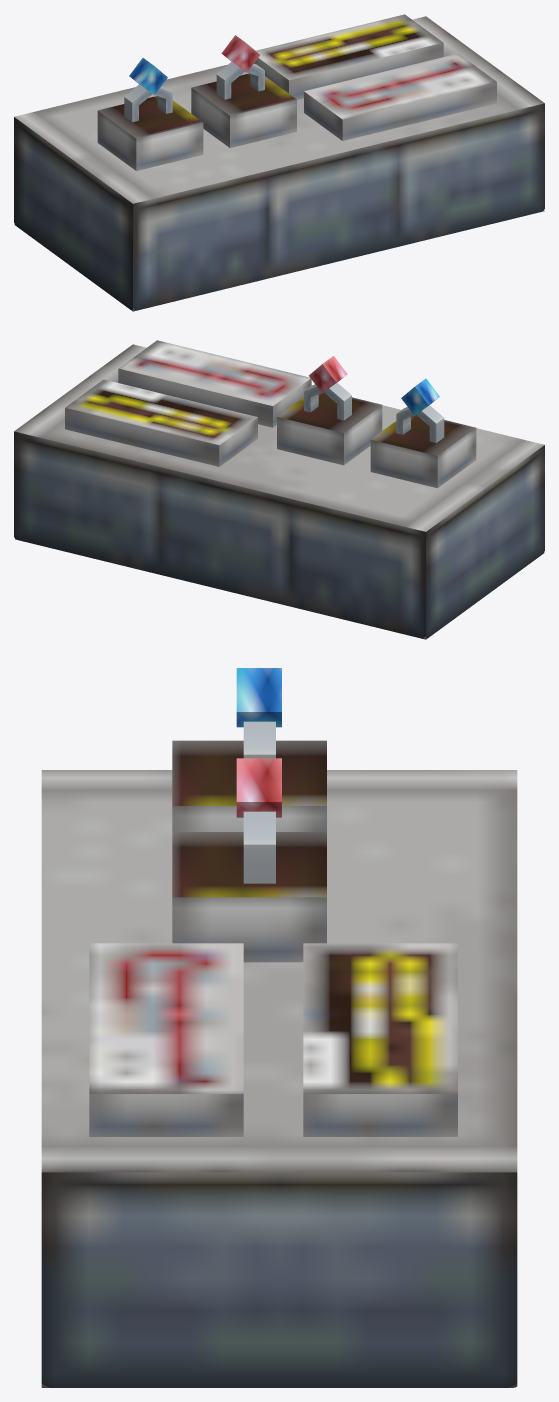
The model's file is Poly_SF_Outside_B_Stall_Goods_06.obj.
3 views of the same model, one above another, from view 1: azimuth 30°, elevation 25°; view 2: azimuth 150°, elevation 25°; view 3: azimuth 270°, elevation 25° (orthographic). The views are drawn at different scales.
Visible parts, largest first — view 1: Cube.006; view 2: Cube.006; view 3: Cube.006.
Boxes of the visible parts, box(x1,y1,x2,y2) form: Cube.006: box(14, 14, 544, 311); Cube.006: box(14, 340, 544, 639); Cube.006: box(41, 668, 517, 1387).
Bounding box in the file's own units: 0.8 × 0.3581 × 0.4.
Materials: 1 (1 with a texture image).
